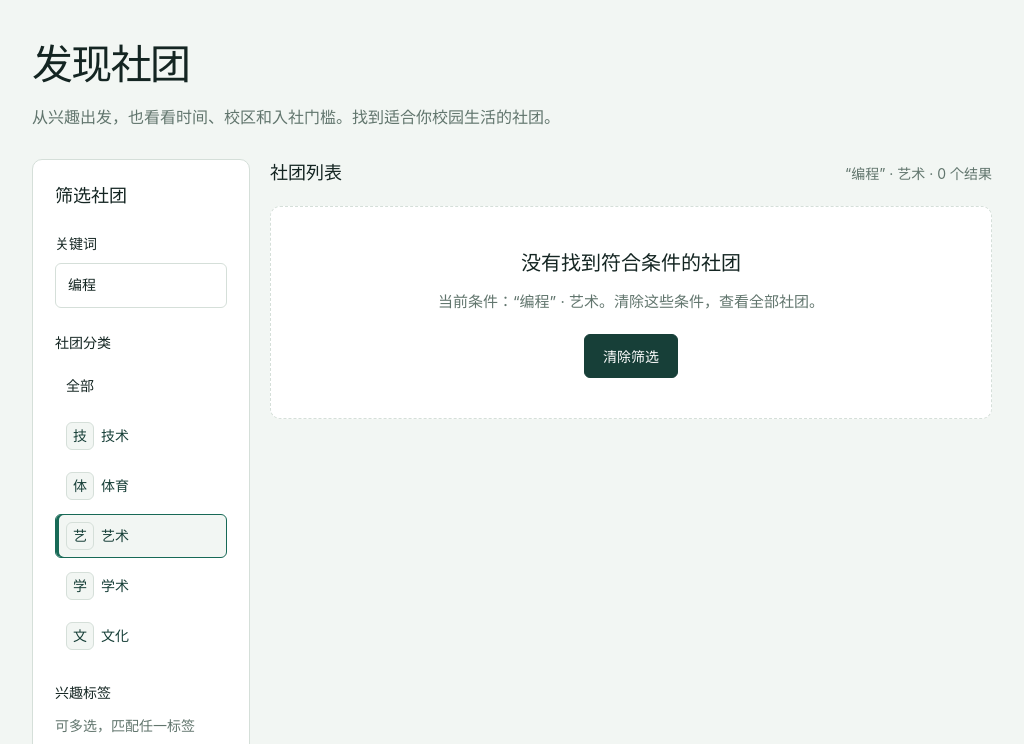
Test: Clubs discovery › preserves incoming keyword and category and clears an empty result
Expected: the search field labelled "关键词" holds "编程", [55,263,227,308]
Expected: the text "“编程” · 艺术 · 0 个结果" is shown, [845,163,992,186]
Click the button "清除筛选". click: click(631, 356)
box: [584,334,678,378]
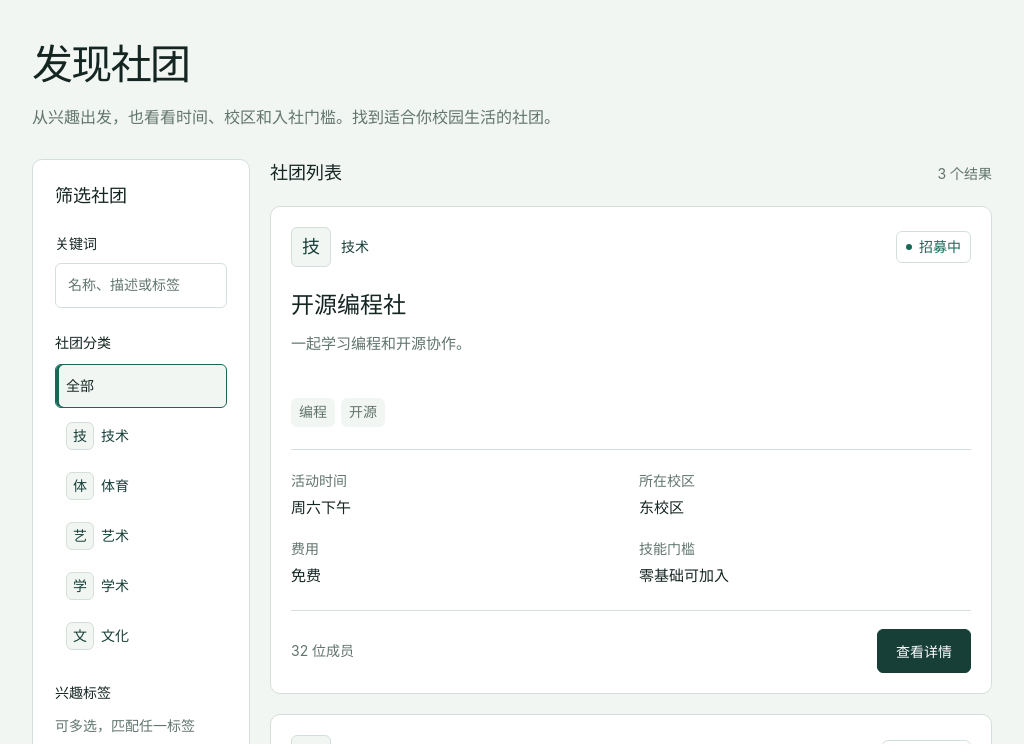
Expected: the search field labelled "关键词" is empty, [55,263,227,308]
